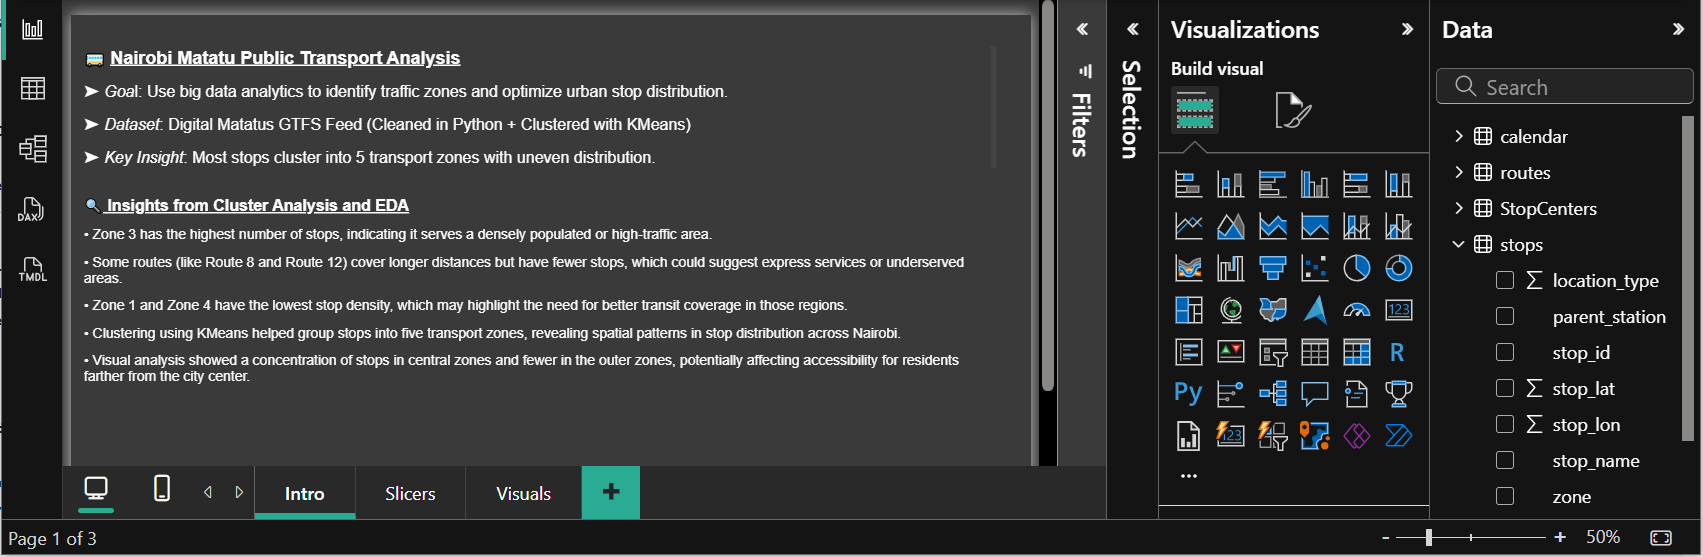

Layout of this report page (visuals, bound fields, positions):
{"tool":"powerbi","page":{"name":"Intro","canvas":[1280,720],"ordinal":0},"visuals":[{"type":"textbox","box":[11.7,35,1226.7,180],"z":0},{"type":"textbox","box":[11.7,236.7,1226.7,296.7],"z":1000}]}

Visuals, with their boxes on the page's 1280x720 design canvas (x1, y1, x2, y2). These are canvas units, not pixel positions in the 1703x557 screenshot, which may show the page scaled, cropped or inside an application window:
textbox: bbox(12, 35, 1238, 215)
textbox: bbox(12, 237, 1238, 533)
